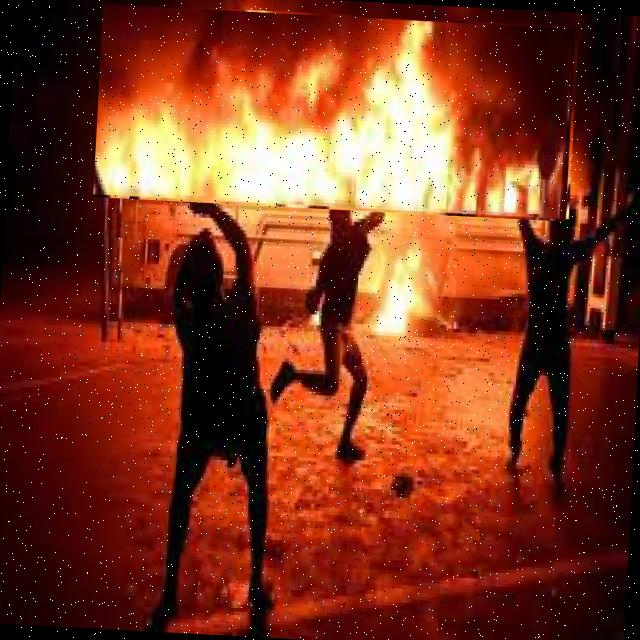fire: (93, 5, 576, 222), (370, 240, 444, 342)
